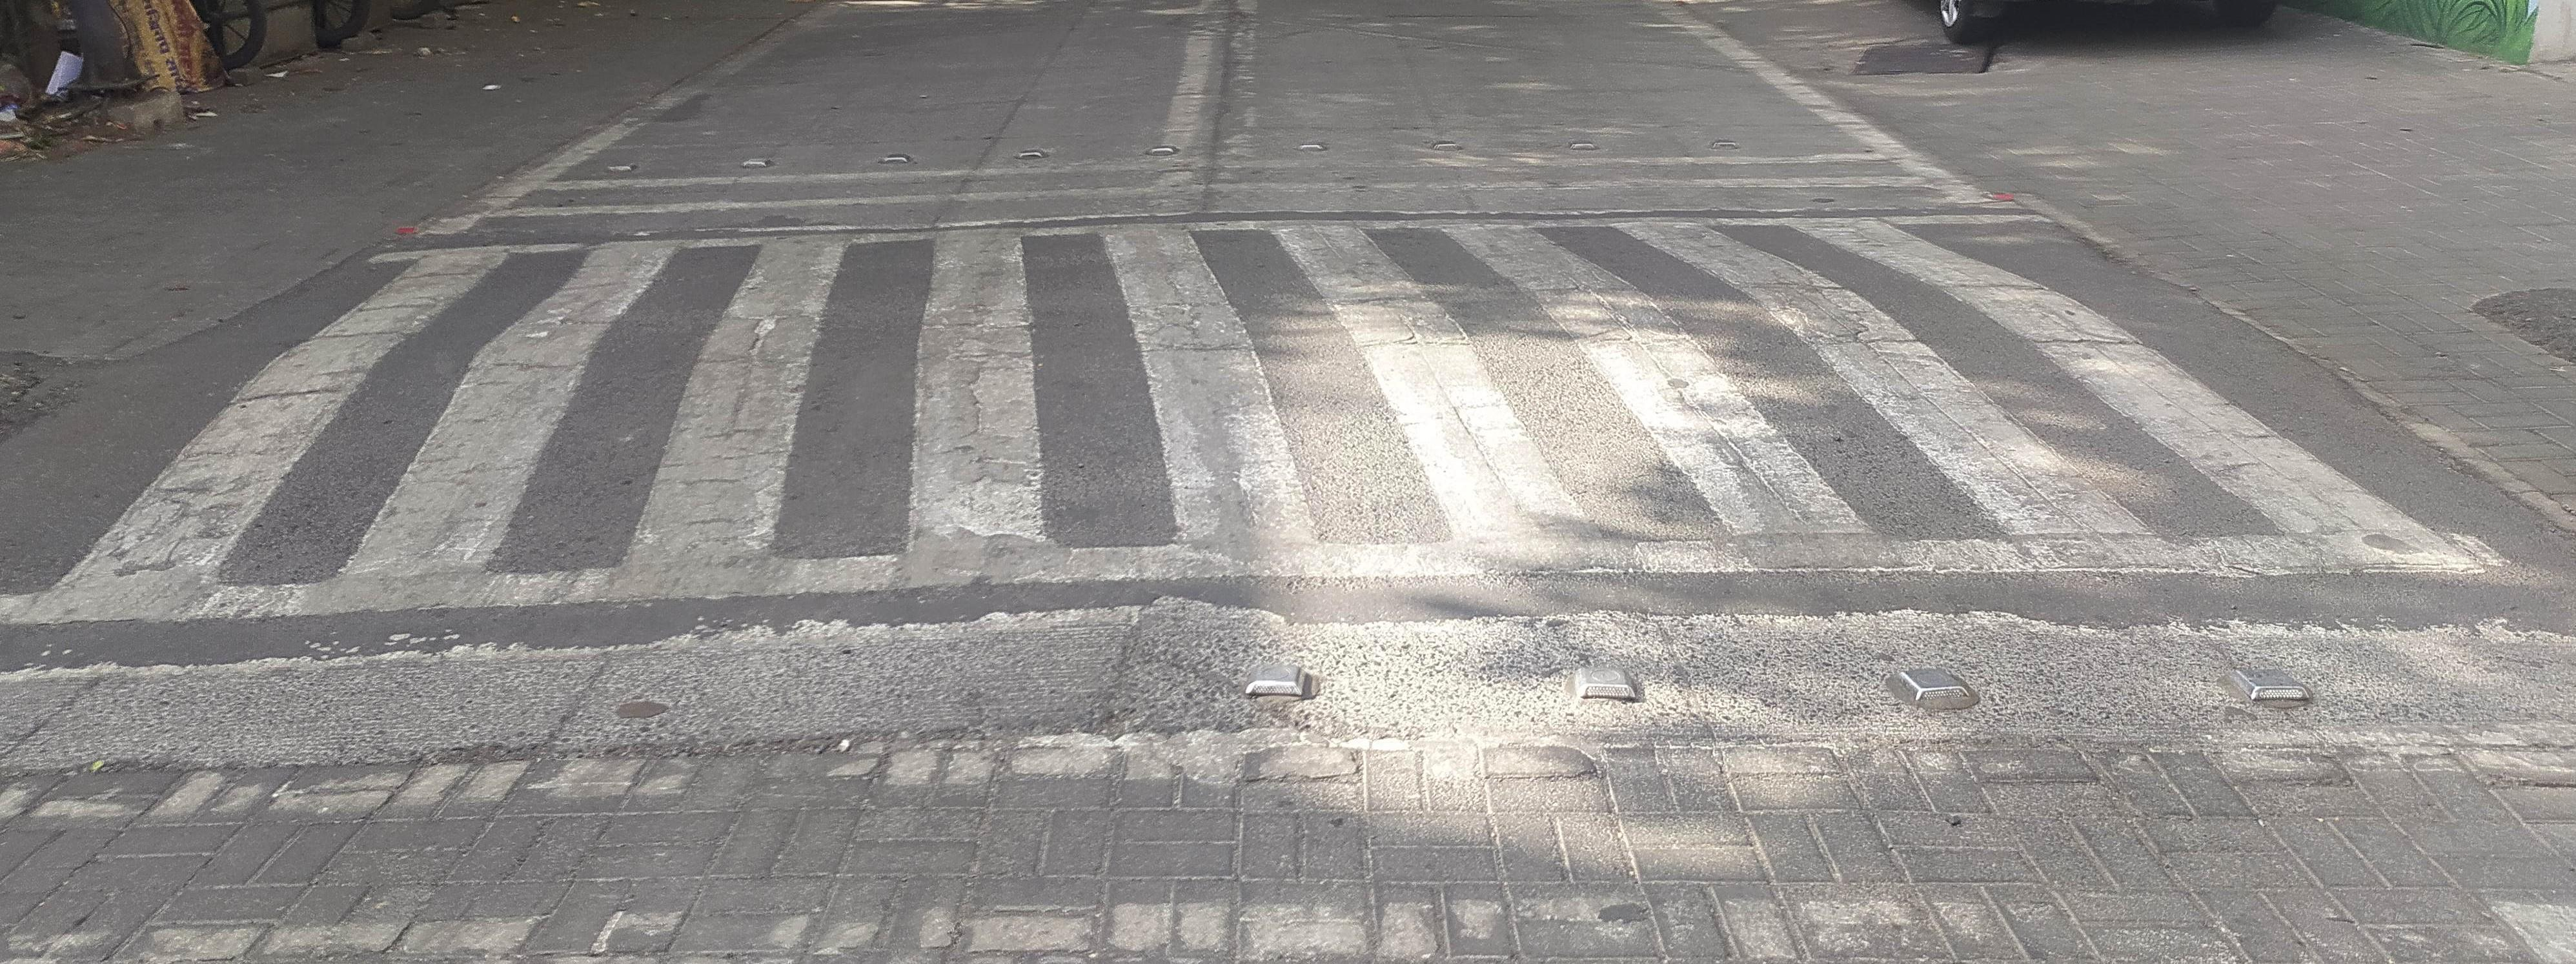speed-bump: (21, 198, 2573, 688)
